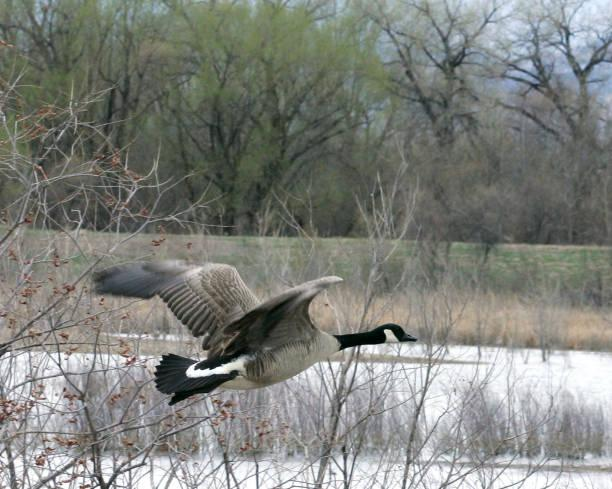Canadian-Goose: (95, 244, 423, 401)
